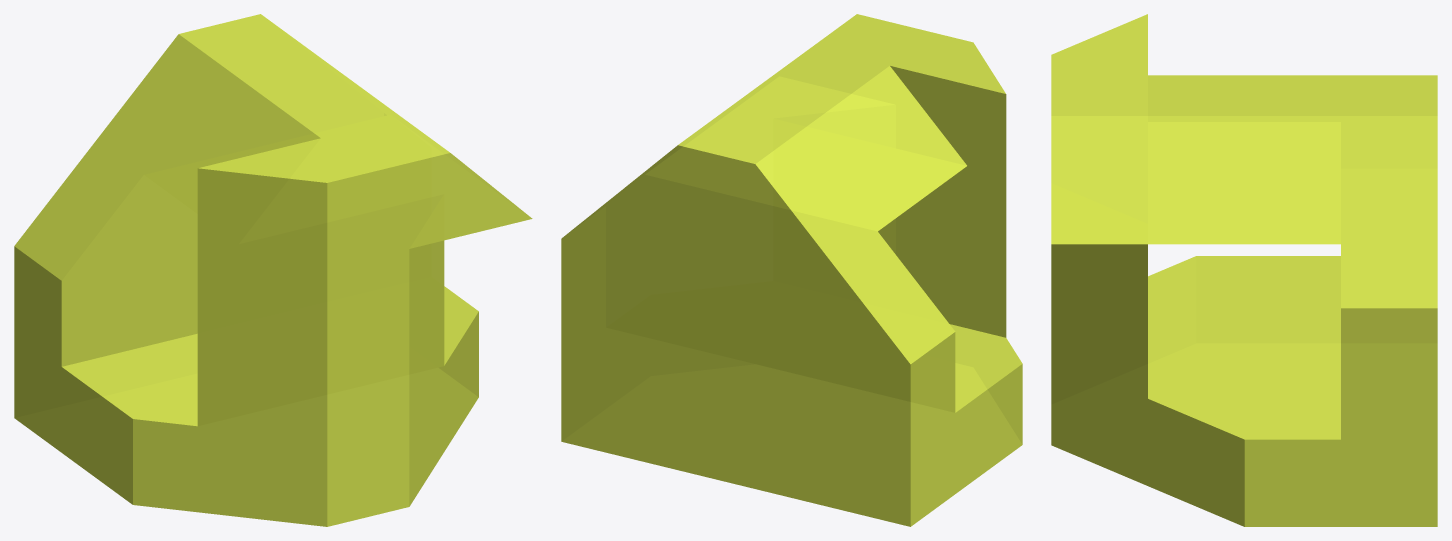
The model's file is HexagonalToroid_O.obj.
3 views of the same model, side by side, from view 1: azimuth 30°, elevation 25°; view 2: azimuth 150°, elevation 25°; view 3: azimuth 270°, elevation 25° (orthographic). The views are drawn at different scales.
Size of the model in its own units: 9 by 8 by 8.
